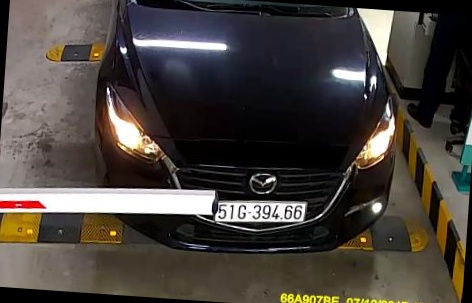plate: (211, 196, 307, 229)
